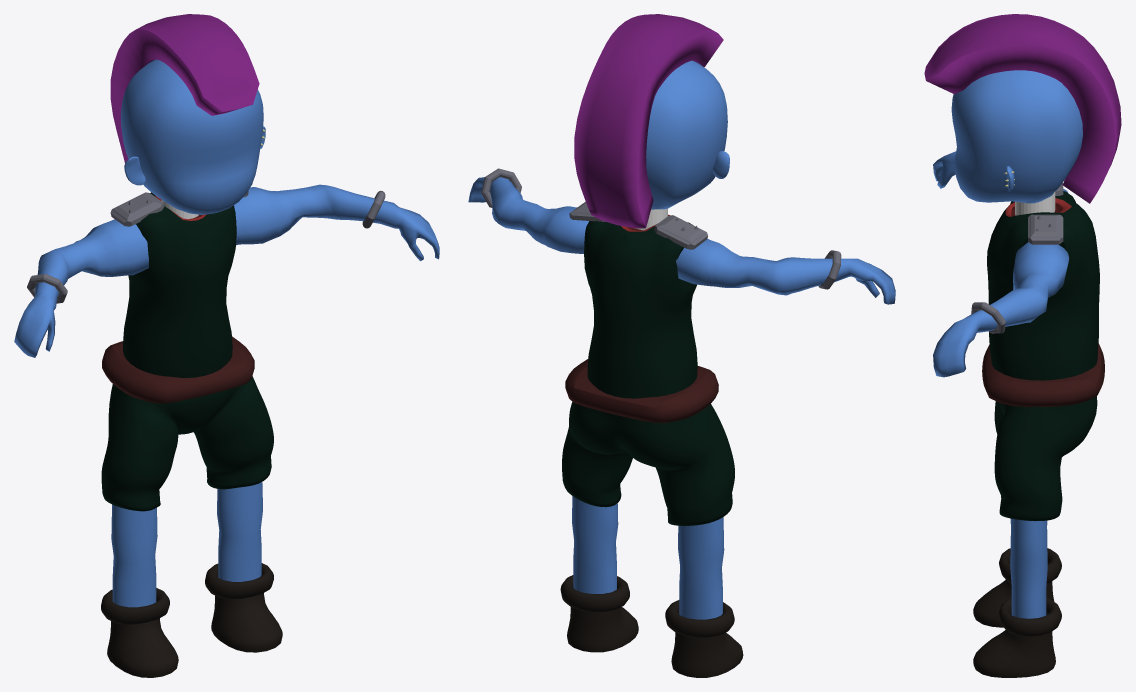
Rendered from Ragdoll_Grunt_Decapitated.fbx.
3 renders of one model, left to right at view 1: azimuth 30°, elevation 25°; view 2: azimuth 150°, elevation 25°; view 3: azimuth 270°, elevation 25°, orthographic.
Visible parts, largest first — view 1: Torso(Grunt), Pants(Grunt), Head, Hair(Grunt).001, L_Arm(Grunt), R_Arm(Grunt), L_Shoe(Grunt), R_Shoe(Grunt), Belt(Grunt), R_Leg(Grunt), L_Leg(Grunt), ShoulderPads (+1 smaller); view 2: Torso(Grunt), Hair(Grunt).001, Pants(Grunt), Head, R_Arm(Grunt), Belt(Grunt), R_Leg(Grunt), L_Arm(Grunt), L_Shoe(Grunt), R_Shoe(Grunt), L_Leg(Grunt), ShoulderPads (+1 smaller); view 3: Head, Hair(Grunt).001, Torso(Grunt), Pants(Grunt), L_Arm(Grunt), L_Shoe(Grunt), Belt(Grunt), L_Leg(Grunt), R_Shoe(Grunt), ShoulderPads, R_Arm(Grunt), fakeneck (+1 smaller).
Part boxes in pixels (<box>): Torso(Grunt): <box>123,192,236,377</box>; Pants(Grunt): <box>101,376,273,511</box>; Head: <box>121,59,263,214</box>; Hair(Grunt).001: <box>110,14,259,163</box>; L_Arm(Grunt): <box>234,184,439,261</box>; R_Arm(Grunt): <box>14,219,148,357</box>; L_Shoe(Grunt): <box>205,563,282,652</box>; R_Shoe(Grunt): <box>101,588,178,677</box>; Belt(Grunt): <box>102,336,254,403</box>; R_Leg(Grunt): <box>111,504,157,607</box>; L_Leg(Grunt): <box>217,482,262,581</box>; ShoulderPads: <box>110,190,248,226</box>; Torso(Grunt): <box>584,214,697,398</box>; Hair(Grunt).001: <box>574,14,723,228</box>; Pants(Grunt): <box>562,402,734,525</box>; Head: <box>646,60,727,209</box>; R_Arm(Grunt): <box>676,239,895,304</box>; Belt(Grunt): <box>565,359,718,423</box>; R_Leg(Grunt): <box>678,517,724,619</box>; L_Arm(Grunt): <box>468,177,588,253</box>; L_Shoe(Grunt): <box>560,575,638,652</box>; R_Shoe(Grunt): <box>665,600,743,677</box>; L_Leg(Grunt): <box>572,496,618,593</box>; ShoulderPads: <box>569,201,707,249</box>; Head: <box>951,70,1082,203</box>; Hair(Grunt).001: <box>924,14,1121,203</box>; Torso(Grunt): <box>987,191,1099,380</box>; Pants(Grunt): <box>994,396,1097,521</box>; L_Arm(Grunt): <box>933,242,1069,377</box>; L_Shoe(Grunt): <box>973,598,1061,677</box>; Belt(Grunt): <box>982,343,1104,407</box>; L_Leg(Grunt): <box>1010,518,1047,618</box>; R_Shoe(Grunt): <box>973,548,1061,627</box>; ShoulderPads: <box>1028,183,1063,244</box>; R_Arm(Grunt): <box>933,151,1068,193</box>; fakeneck: <box>1015,191,1055,215</box>.
Size of the model in its own units: 1209 by 1728 by 500.
